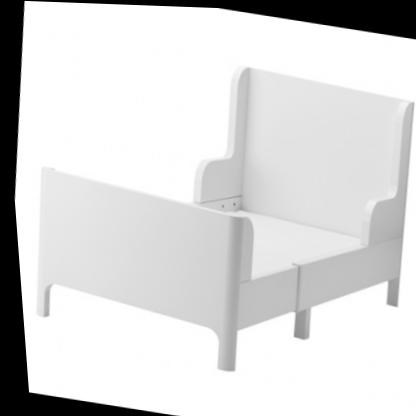Bed: (8, 31, 416, 400)
